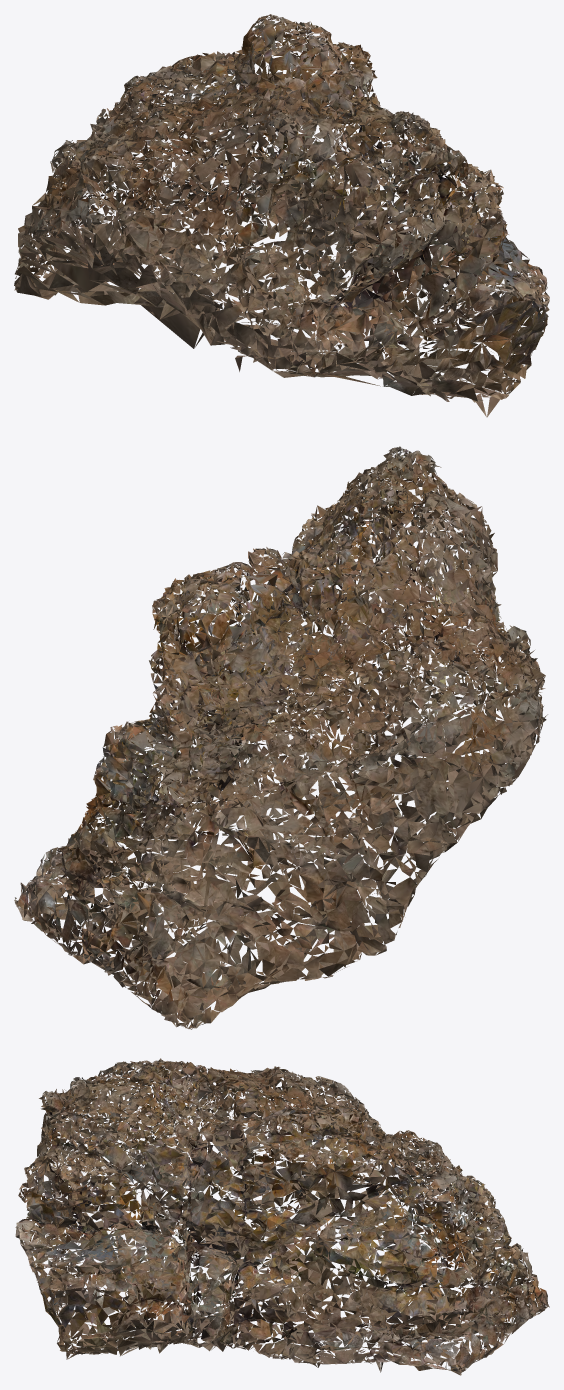
The model's file is boulder_01.glb.
3 renders of one model, top to bottom at view 1: azimuth 30°, elevation 25°; view 2: azimuth 150°, elevation 25°; view 3: azimuth 270°, elevation 25°, orthographic. The views are drawn at different scales.
Visible parts, largest first — view 1: boulder_01; view 2: boulder_01; view 3: boulder_01.
Part boxes in pixels (left/top/right/bottom): boulder_01: left=14, top=14, right=549, bottom=417; boulder_01: left=14, top=446, right=547, bottom=1029; boulder_01: left=15, top=1058, right=549, bottom=1375.
Size of the model in its own units: 1.28 by 1.01 by 1.84.
1 material, 1 textured.
